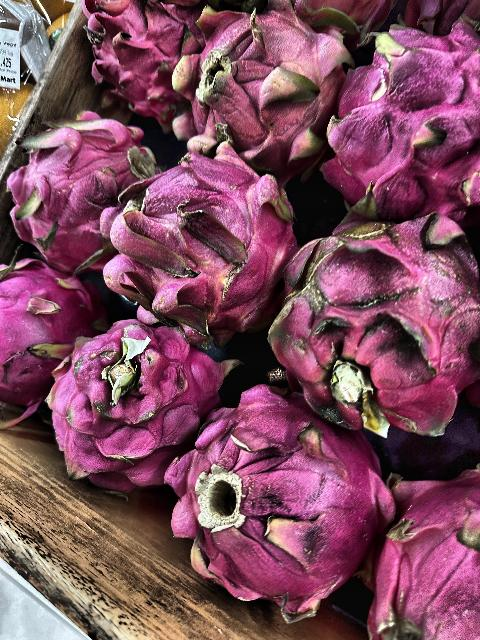buah-naga-belum-matang: (172, 10, 334, 156)
buah-naga-matang: (262, 196, 480, 432), (171, 369, 382, 611), (96, 142, 286, 324), (42, 314, 220, 478), (328, 30, 480, 216), (0, 126, 148, 262), (388, 470, 480, 640), (0, 260, 84, 432), (80, 0, 202, 100)
